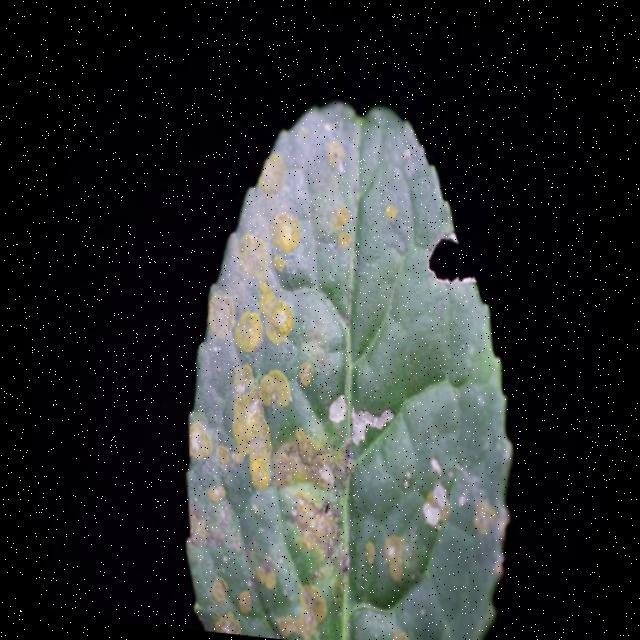Tea red rust: (156, 125, 480, 632)
